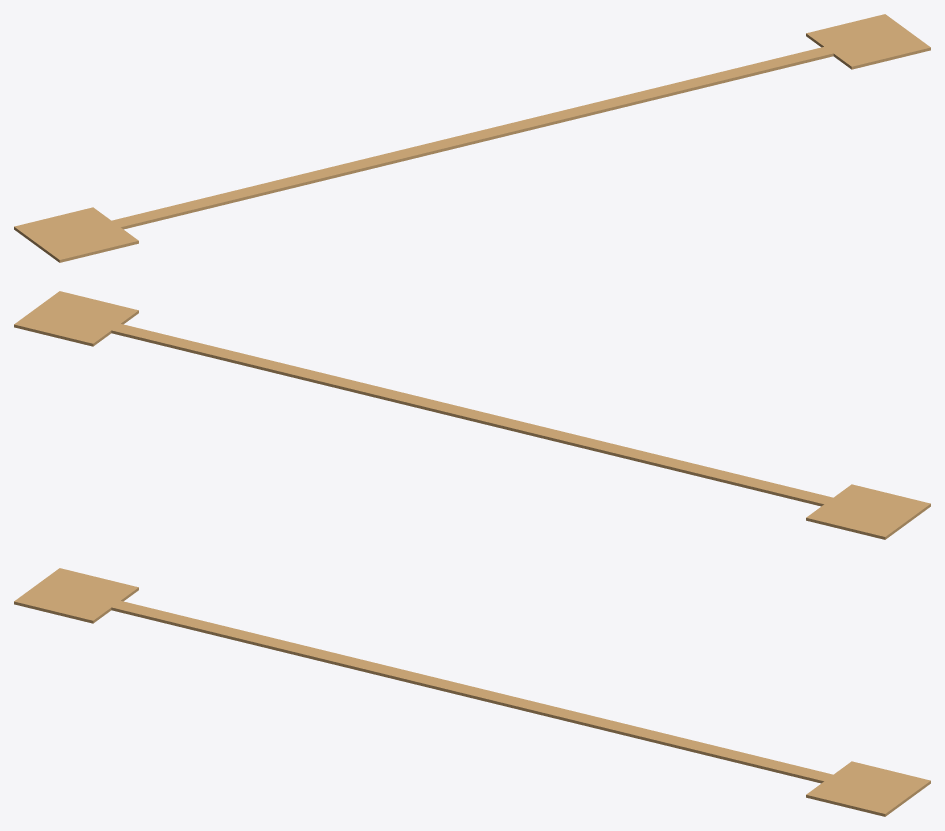
Rendered from board.glb.
3 renders of one model, top to bottom at view 1: azimuth 30°, elevation 25°; view 2: azimuth 150°, elevation 25°; view 3: azimuth 330°, elevation 25°, orthographic.
Parts seen in each view (by area): view 1: Unified_Net_1_Island_0, Substrate_Layer_0_Z0, Substrate_Layer_1_Z0; view 2: Unified_Net_1_Island_0, Substrate_Layer_0_Z0, Substrate_Layer_1_Z0; view 3: Unified_Net_1_Island_0, Substrate_Layer_1_Z0, Substrate_Layer_0_Z0.
Part boxes in pixels (x1,y1,x2,y2): Unified_Net_1_Island_0: (104, 45, 840, 229); Substrate_Layer_0_Z0: (14, 207, 138, 262); Substrate_Layer_1_Z0: (806, 14, 930, 69); Unified_Net_1_Island_0: (104, 322, 840, 506); Substrate_Layer_0_Z0: (806, 484, 930, 539); Substrate_Layer_1_Z0: (14, 291, 138, 346); Unified_Net_1_Island_0: (104, 599, 840, 783); Substrate_Layer_1_Z0: (806, 761, 930, 816); Substrate_Layer_0_Z0: (14, 568, 138, 623).
Size of the model in its own units: 0.011 by 3.5e-05 by 0.001.
